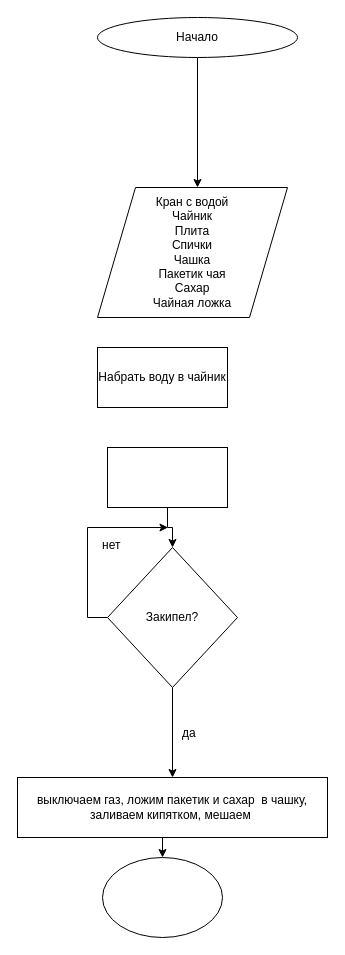
Some shapes in this 345 by 955 pixel diagram are drawn without their labels. The centre of each missing label's shape, as x and y in pixels:
Конец: the point at 162,897
Поставить чайник на плиту: the point at 167,477
